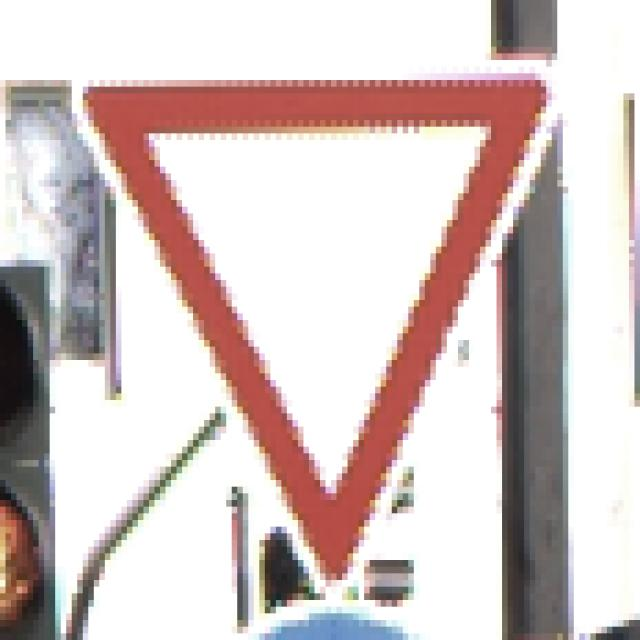Give Way: (62, 54, 586, 588)
